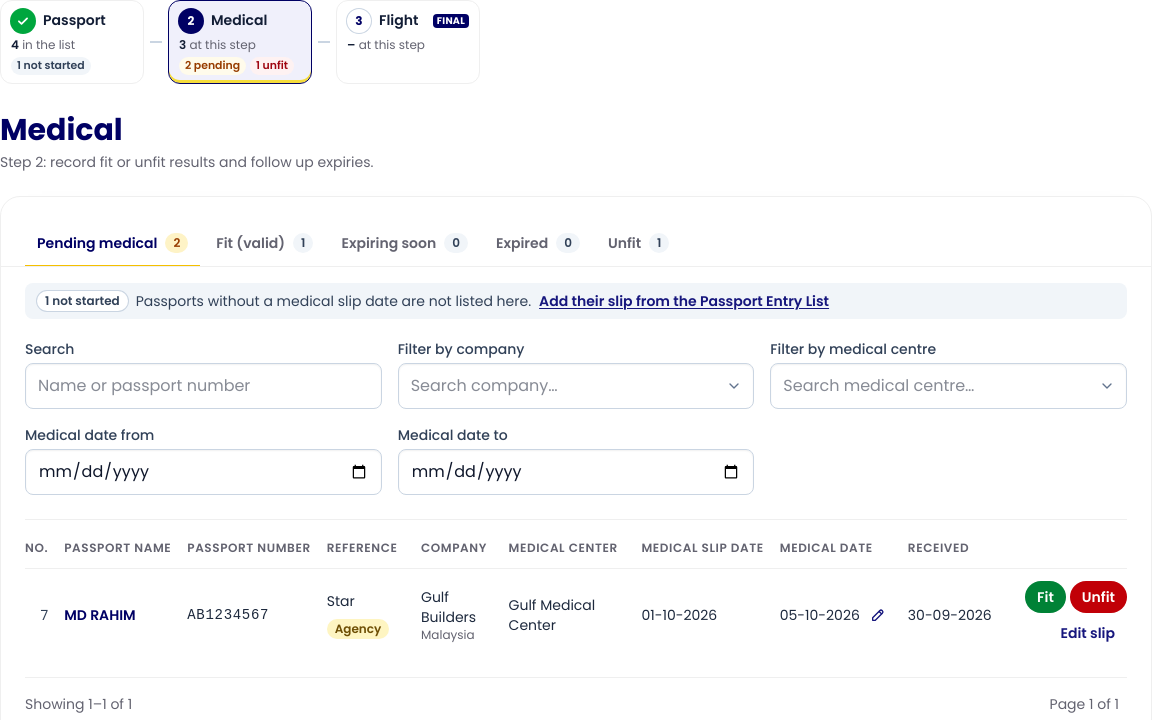
Medical page › Fit: issue and expiry dates › shows the API's 422 messages under the fields
The image size is (1152, 720).
Click the button "Fit" at (1046, 597), box [1025,581,1066,613]
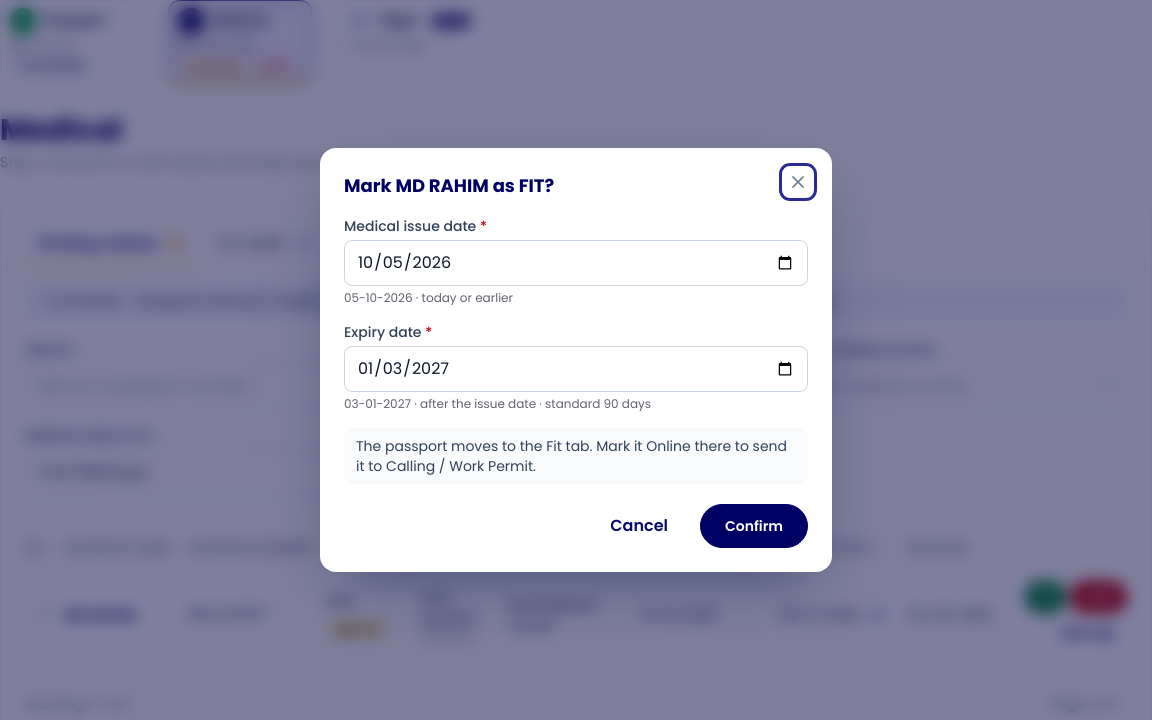
Submit the form, box [344,216,808,548]
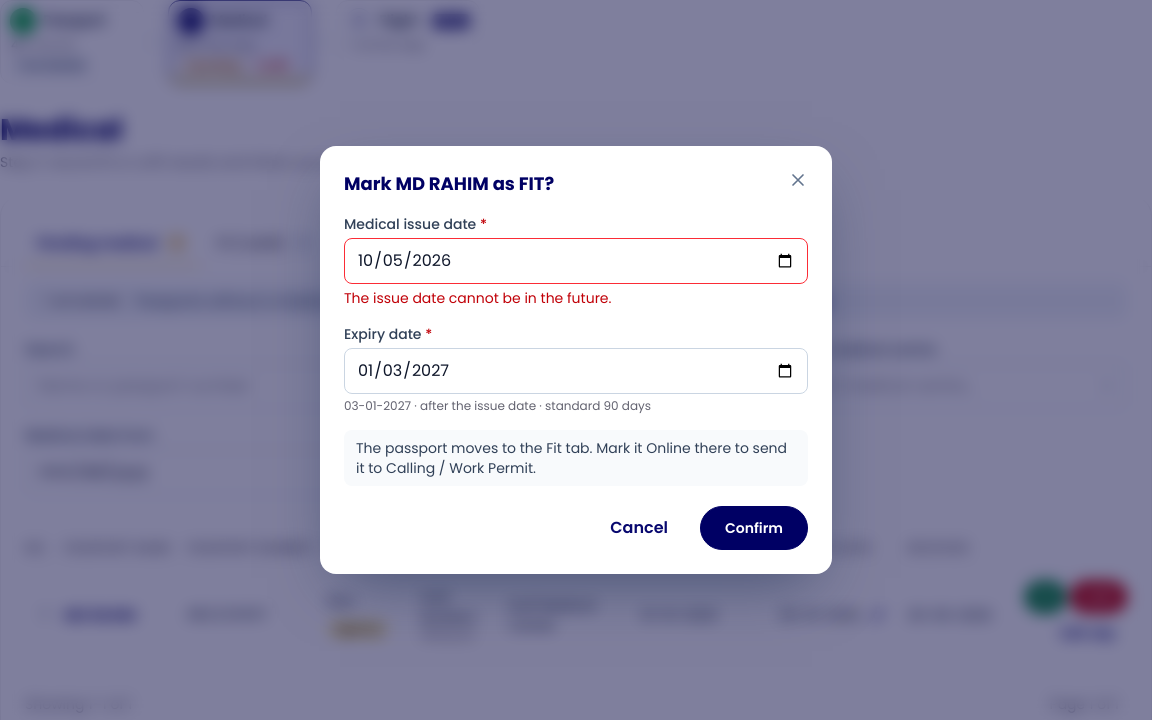
Check: the form shows "The issue date cannot be in the future.", box [344,288,612,308]
